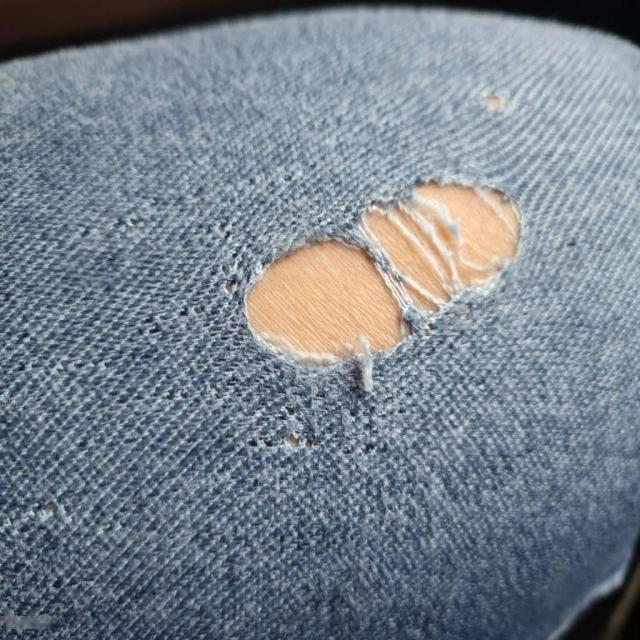cut: (236, 172, 524, 382)
